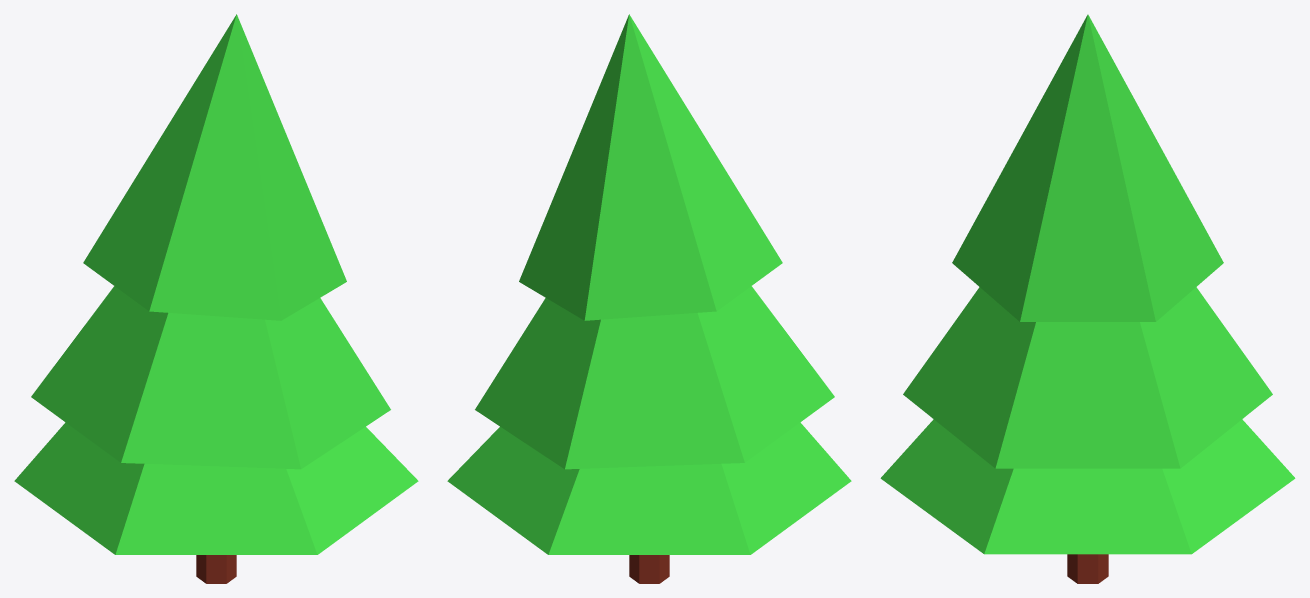
Rendered from pohon 3.fbx.
The picture shows the model from 3 angles, left to right: view 1: azimuth 30°, elevation 25°; view 2: azimuth 150°, elevation 25°; view 3: azimuth 270°, elevation 25°; orthographic projection. The views are drawn at different scales.
Parts seen in each view (by area): view 1: Tree Type1 03 Model; view 2: Tree Type1 03 Model; view 3: Tree Type1 03 Model.
Boxes of the visible parts, bbox=[...] form: Tree Type1 03 Model: bbox=[14, 14, 418, 583]; Tree Type1 03 Model: bbox=[447, 14, 851, 583]; Tree Type1 03 Model: bbox=[880, 14, 1295, 583].
Bounding box in the file's own units: 631 × 1109 × 729.
